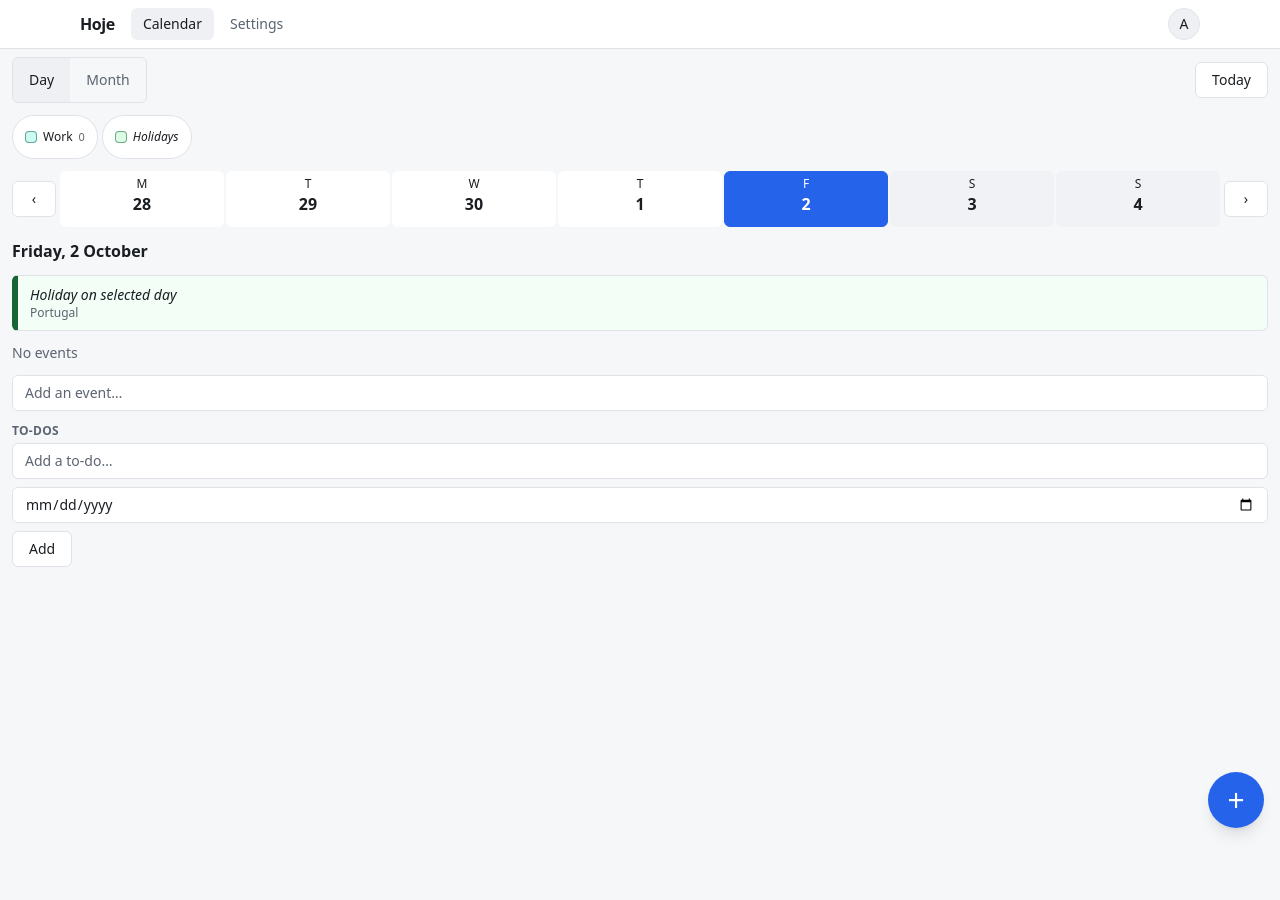
Test: mobile holidays chip › the Holidays chip hides holiday cards in day view
The image size is (1280, 900).
Expected: the list named "Holidays" is shown, [12, 275, 1268, 331]
# Toggle holidays off
Step 1. Click the button "Holidays" → (147, 137), box [102, 115, 192, 159]
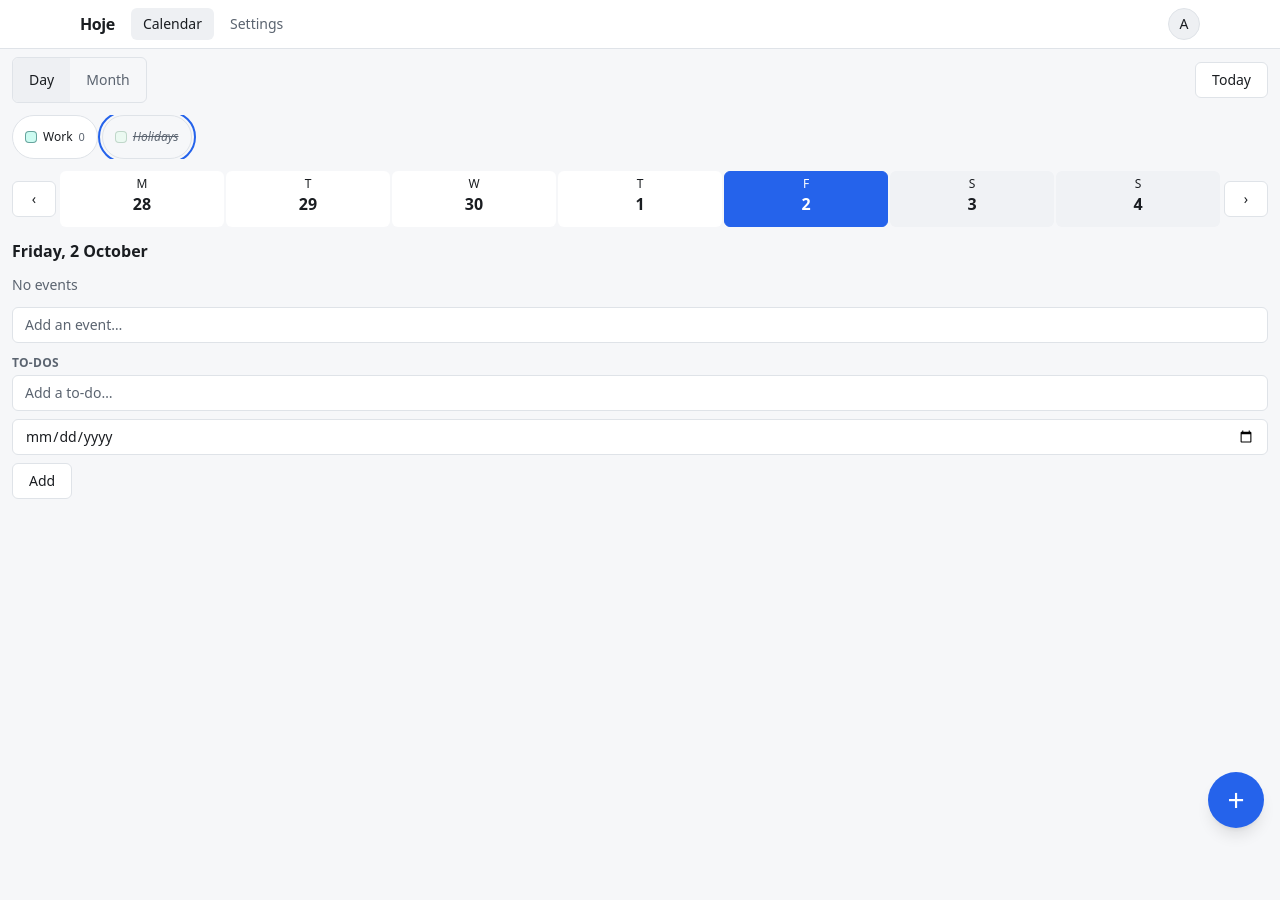
# Toggle back on
Step 2. Click the button "Holidays" → (147, 137), box [102, 115, 192, 159]
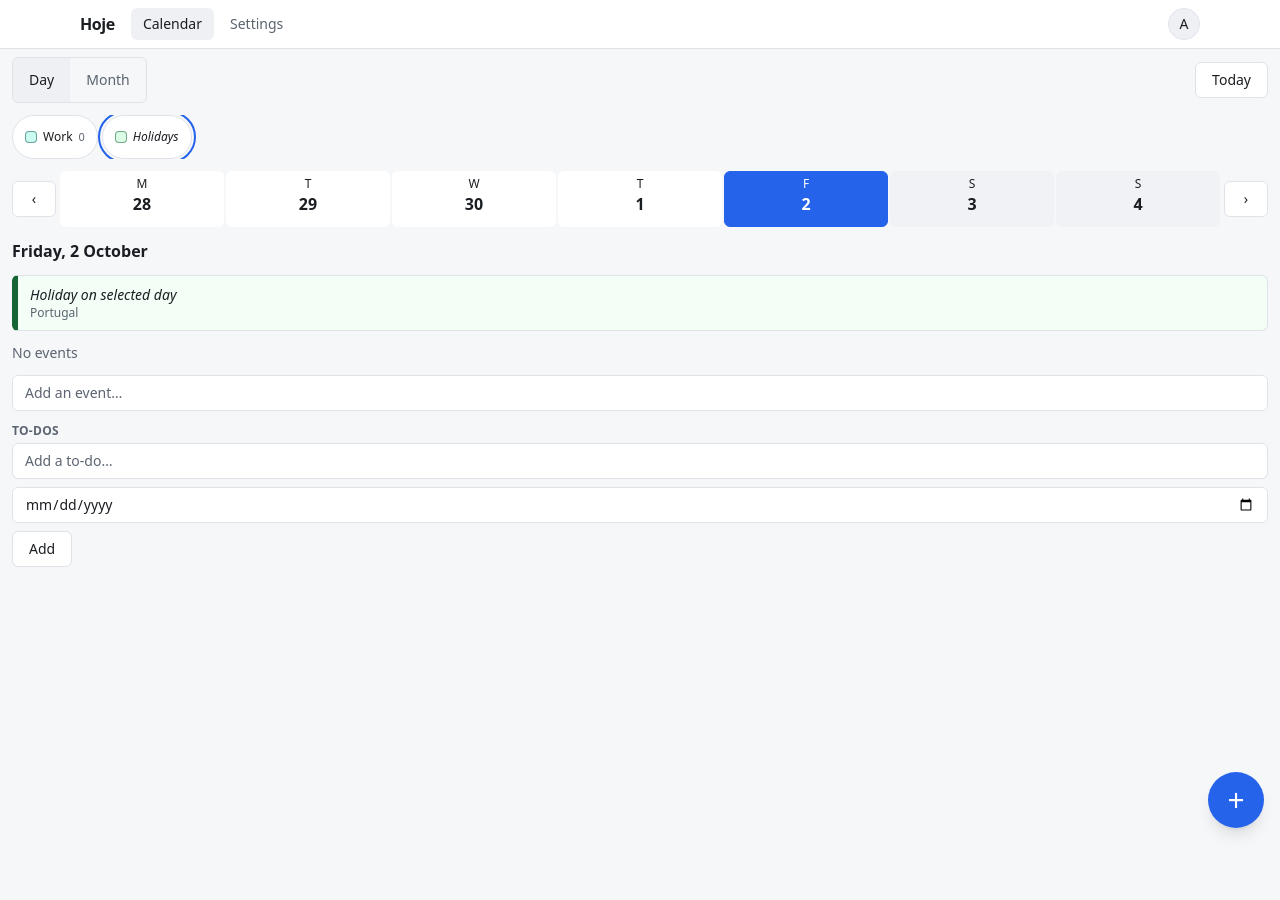
Expected: the list named "Holidays" is shown, [12, 275, 1268, 331]
